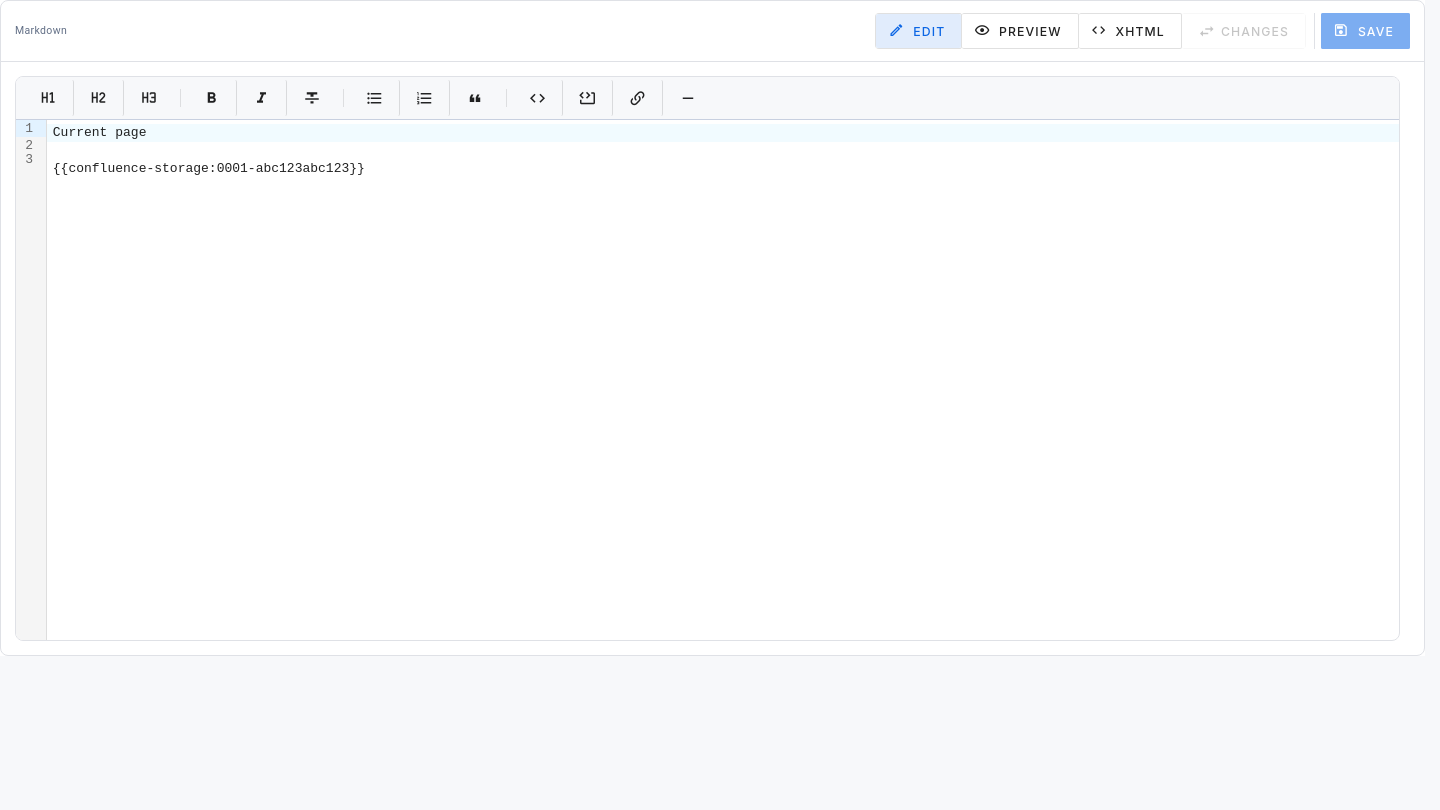
Scenario: MarkdownWorkspace › uses current Storage XHTML for an unmodified no-draft preview
Click the button "Preview": (1020, 31) [962, 13, 1079, 49]
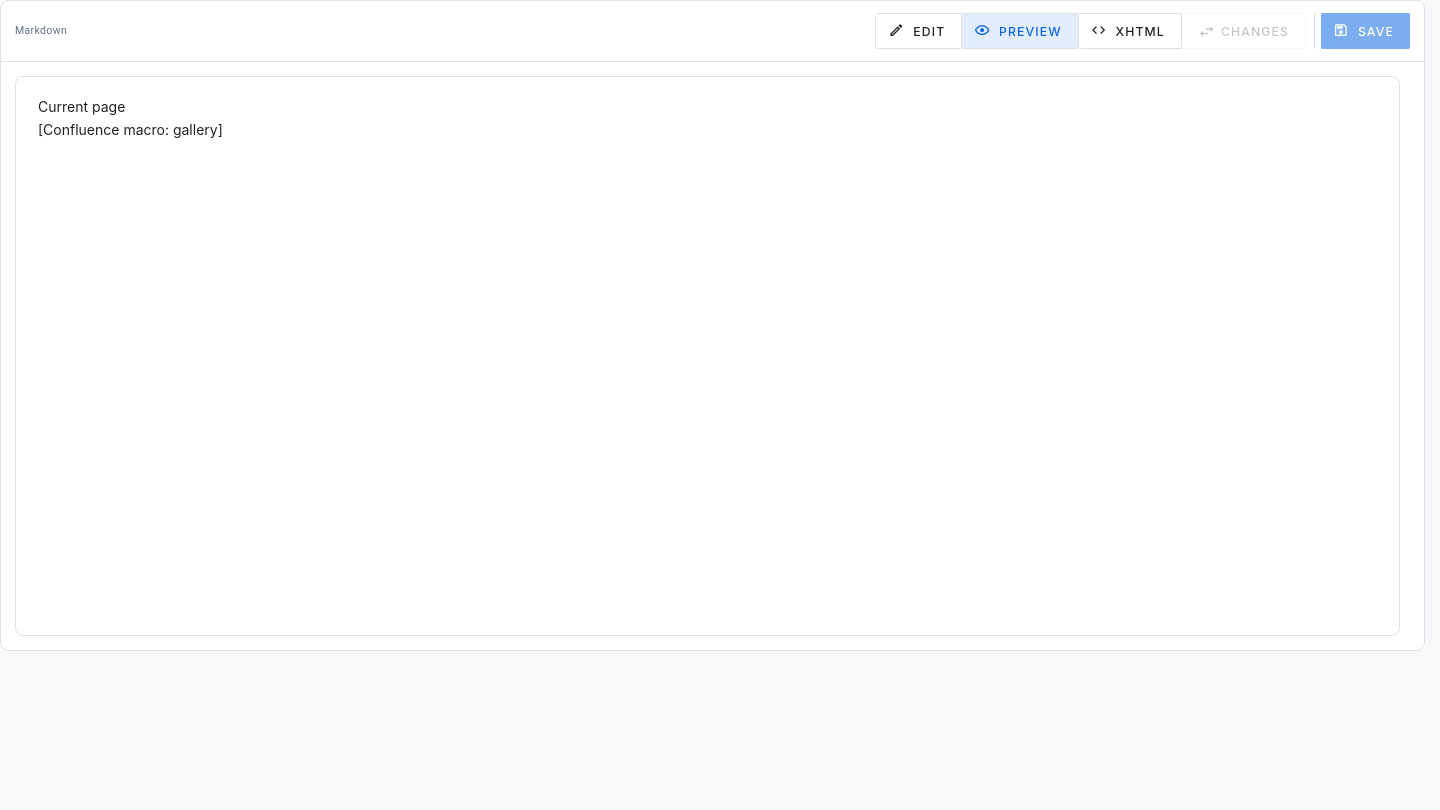
Expected: the element with class "markdown-preview" shows "[Confluence macro: gallery]", [38, 121, 223, 138]
Expected: the field with class "markdown-preview" no longer shows "confluence-storage"
